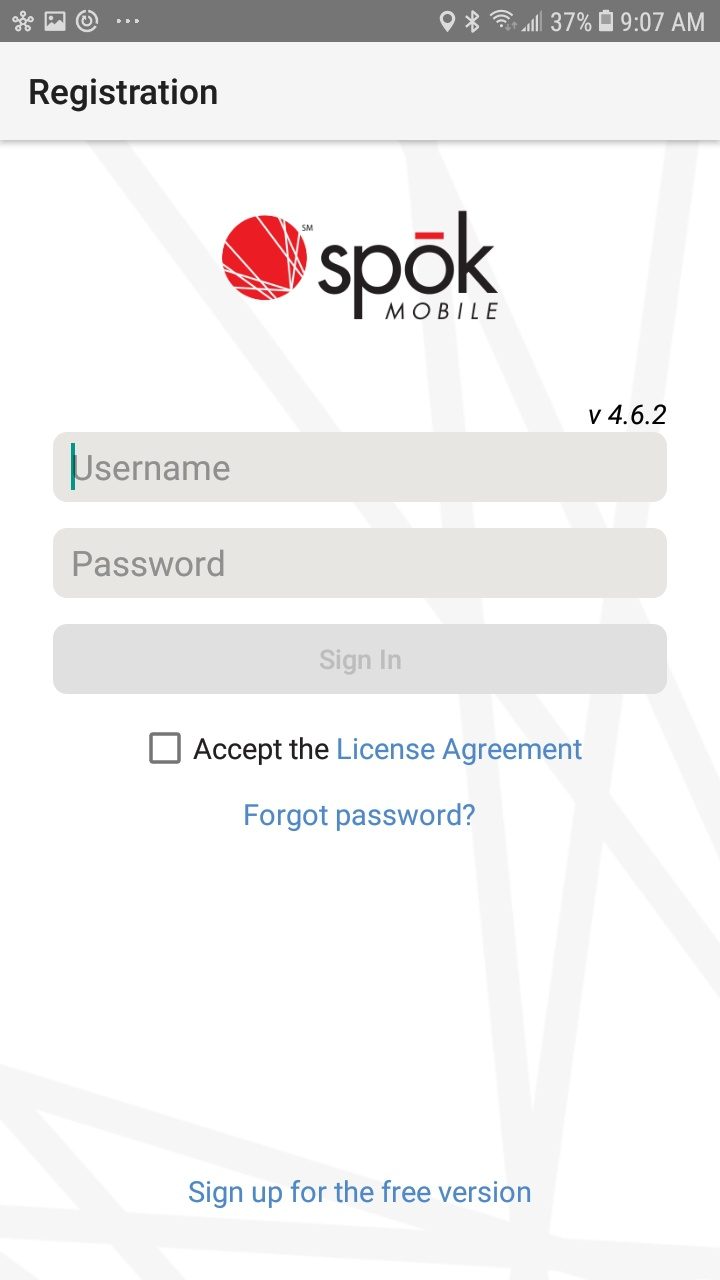BackgroundImage: (1, 141, 720, 1280)
CheckedTextView: (149, 732, 582, 766)
EditText: (53, 432, 667, 503), (53, 528, 667, 599)
Image: (222, 210, 500, 321)
Text: (192, 738, 582, 766), (189, 1179, 531, 1209), (245, 803, 476, 832), (30, 78, 219, 113), (74, 549, 225, 579), (74, 461, 231, 481), (589, 404, 667, 426)
TextButton: (54, 624, 668, 695)
UpperTaskBar: (1, 1, 720, 43)
